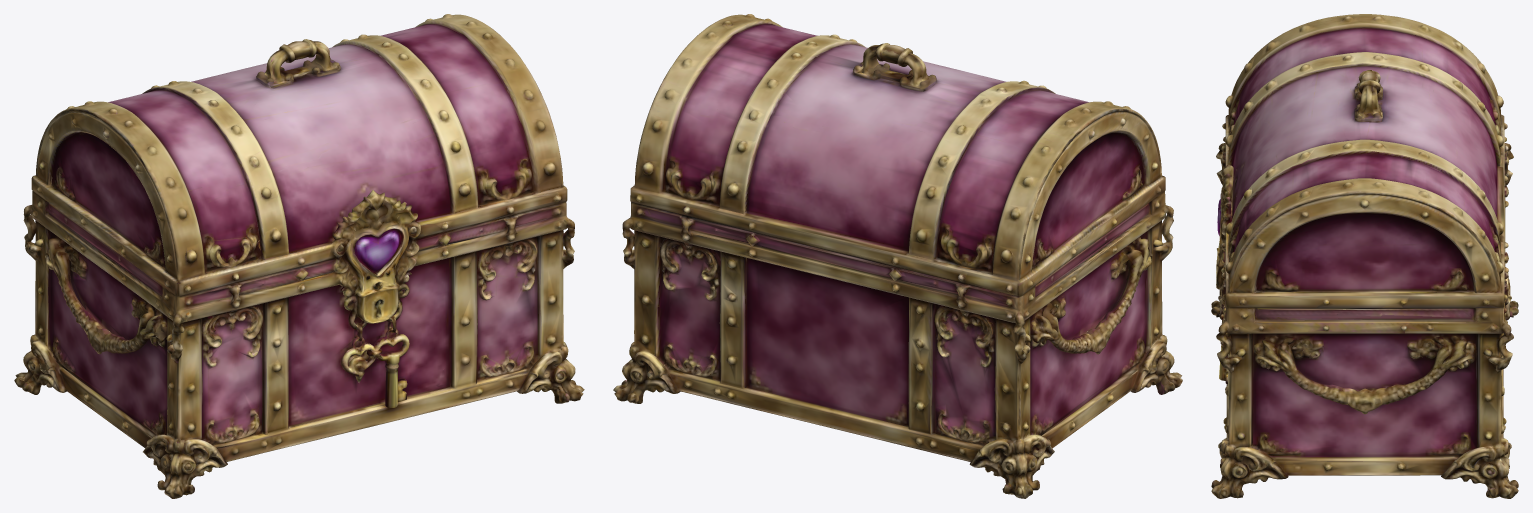
Rendered from chest-ornate.glb.
3 views of the same model, side by side, from view 1: azimuth 30°, elevation 25°; view 2: azimuth 150°, elevation 25°; view 3: azimuth 270°, elevation 25° (orthographic). The views are drawn at different scales.
Visible parts, largest first — view 1: material; view 2: material; view 3: material.
Boxes of the visible parts, x1=… form: material: x1=14, y1=14, x2=584, y2=498; material: x1=613, y1=14, x2=1182, y2=498; material: x1=1211, y1=14, x2=1518, y2=498.
Size of the model in its own units: 0.8513 by 0.6782 by 0.5711.
1 material, 1 textured.
